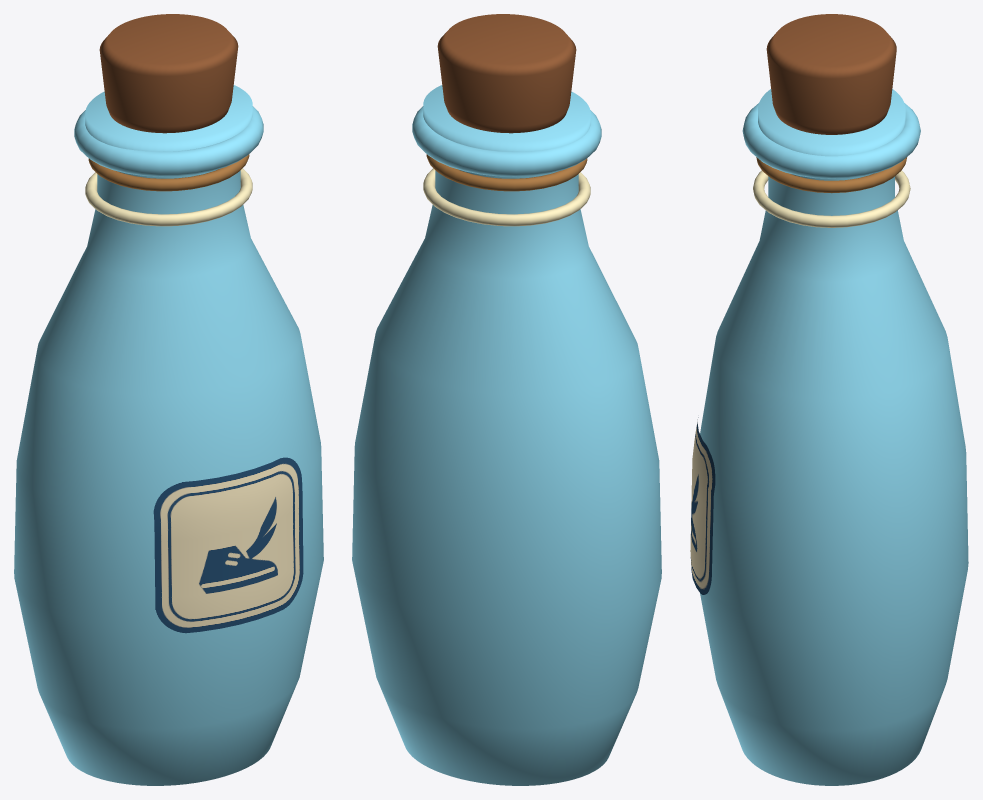
The model's file is potion_swift.glb.
3 renders of one model, left to right at view 1: azimuth 30°, elevation 25°; view 2: azimuth 150°, elevation 25°; view 3: azimuth 270°, elevation 25°, orthographic.
Parts seen in each view (by area): view 1: Glass, FrontLabel, Stopper, NeckRim, SilverThread, NeckBand; view 2: Glass, Stopper, NeckRim, SilverThread, NeckBand; view 3: Glass, Stopper, NeckRim, FrontLabel, SilverThread, NeckBand.
Part boxes in pixels (x1,y1,x2,y2): Glass: [14, 85, 323, 785]; FrontLabel: [153, 457, 303, 633]; Stopper: [99, 14, 238, 133]; NeckRim: [74, 106, 263, 176]; SilverThread: [85, 168, 252, 226]; NeckBand: [88, 154, 249, 191]; Glass: [352, 85, 661, 785]; Stopper: [437, 14, 576, 133]; NeckRim: [412, 106, 601, 176]; SilverThread: [423, 168, 590, 226]; NeckBand: [426, 154, 587, 191]; Glass: [700, 89, 968, 785]; Stopper: [766, 14, 896, 134]; NeckRim: [742, 103, 920, 178]; FrontLabel: [690, 417, 715, 594]; SilverThread: [753, 170, 910, 227]; NeckBand: [756, 157, 906, 193].
Size of the model in its own units: 0.6 by 1.48 by 0.5245.
Materials: 7 (1 with a texture image).
